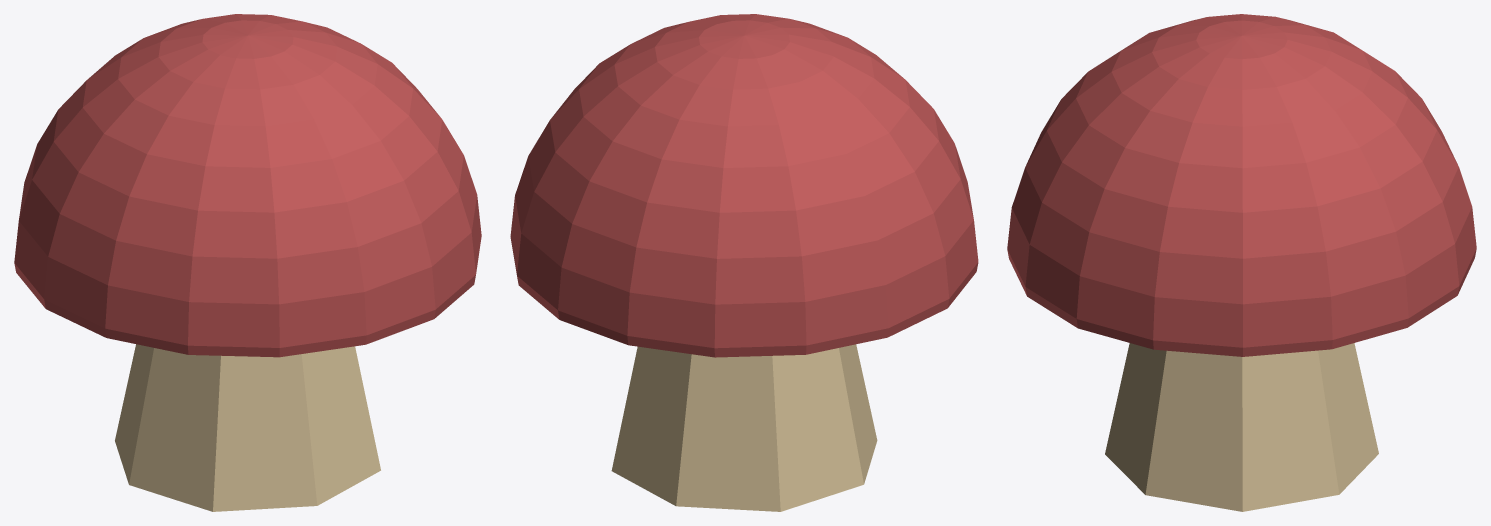
Rendered from Mushroom_15.fbx.
3 renders of one model, left to right at view 1: azimuth 30°, elevation 25°; view 2: azimuth 150°, elevation 25°; view 3: azimuth 270°, elevation 25°, orthographic.
Visible parts, largest first — view 1: Mushroom_15; view 2: Mushroom_15; view 3: Mushroom_15.
Part boxes in pixels (x1,y1,x2,y2): Mushroom_15: [14, 14, 481, 511]; Mushroom_15: [510, 14, 978, 511]; Mushroom_15: [1007, 14, 1476, 511].
Bounding box in the file's own units: 13.57 × 13.33 × 13.57.
